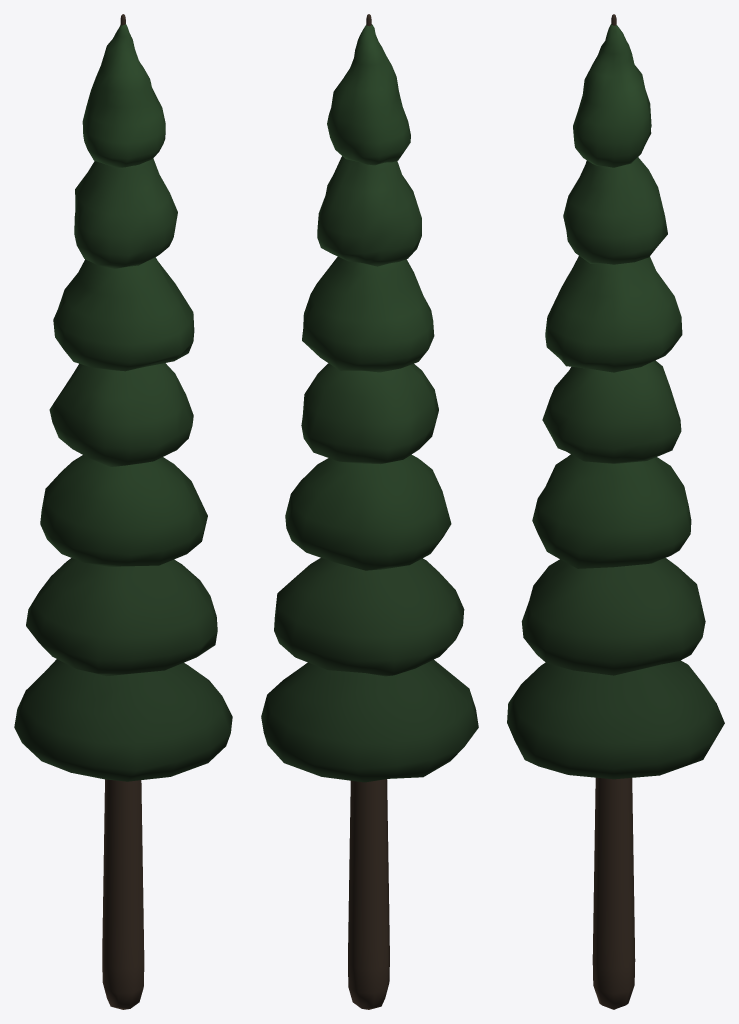
The model's file is SM_Tree_Pine_A.fbx.
3 renders of one model, left to right at view 1: azimuth 30°, elevation 25°; view 2: azimuth 150°, elevation 25°; view 3: azimuth 270°, elevation 25°, orthographic.
Visible parts, largest first — view 1: SM_Tree_Pine_A; view 2: SM_Tree_Pine_A; view 3: SM_Tree_Pine_A.
Boxes of the visible parts, x1,y1,x2,y2 form: SM_Tree_Pine_A: [14, 14, 232, 1009]; SM_Tree_Pine_A: [261, 14, 478, 1009]; SM_Tree_Pine_A: [507, 14, 724, 1009].
Bounding box in the file's own units: 3.18 × 15.95 × 3.16.
